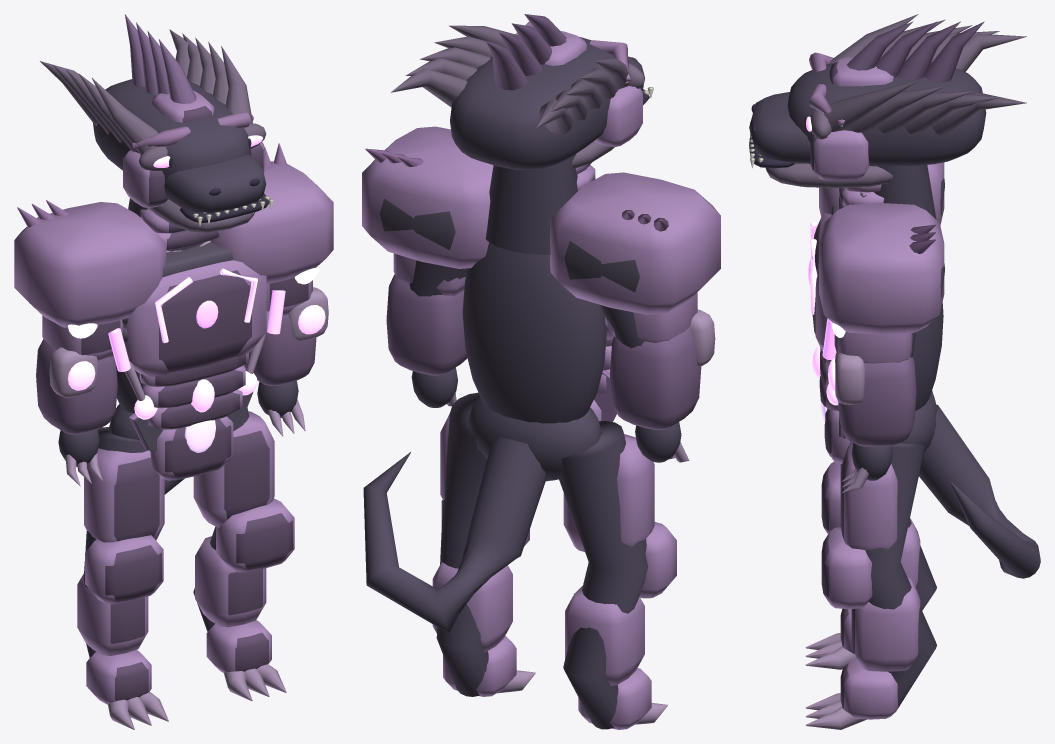
File: obsidnia.glb
The picture shows the model from 3 angles, left to right: view 1: azimuth 30°, elevation 25°; view 2: azimuth 150°, elevation 25°; view 3: azimuth 270°, elevation 25°; orthographic projection. The views are drawn at different scales.
Visible parts, largest first — view 1: Reptillian 2 reinforced pauldron -1 armour rim, Reptillian 2 reinforced pauldron 1 armour rim, Reptillian 2 closed breastplate armour plate, Long angular dragon cranium, Reptillian 2 closed breastplate armour rim, Tapered muzzle, Left forearm mechanical bracer, Reptillian 2 thigh cuirass -1 armour plate, Reptillian 2 thigh cuirass 1 armour plate, Reptillian 2 thigh cuirass -1 armour rim, Reptillian 2 shin greave 1 armour rim, Right forearm mechanical bracer (+54 smaller); view 2: Scaled narrow torso, Reptillian 2 reinforced pauldron -1 armour rim, Long curling reptilian tail, Left digitigrade leg, Reptillian 2 reinforced pauldron 1 armour rim, Long angular dragon cranium, Right digitigrade leg, Left forearm mechanical bracer, Long reptilian neck, Right forearm mechanical bracer, Scaled hip, Reptillian 2 shin greave -1 armour rim (+32 smaller); view 3: Reptillian 2 reinforced pauldron 1 armour rim, Long curling reptilian tail, Long angular dragon cranium, Right digitigrade leg, Right forearm mechanical bracer, Reptillian 2 shin greave 1 armour rim, Reptillian 2 thigh cuirass 1 armour rim, Tapered muzzle, Reptillian 2 knee shield 1 armour rim, Reptillian 2 ankle guard 1 armour rim, Reptillian 2 cheek guard 1 armour rim, Reptillian 2 biceps guard 1 armour rim (+27 smaller).
Part boxes in pixels (x1,y1,x2,y2): Reptillian 2 reinforced pauldron -1 armour rim: [14, 202, 166, 327]; Reptillian 2 reinforced pauldron 1 armour rim: [210, 161, 333, 283]; Reptillian 2 closed breastplate armour plate: [159, 270, 251, 371]; Long angular dragon cranium: [93, 79, 251, 180]; Reptillian 2 closed breastplate armour rim: [123, 260, 266, 377]; Tapered muzzle: [164, 154, 266, 212]; Left forearm mechanical bracer: [36, 339, 117, 434]; Reptillian 2 thigh cuirass -1 armour plate: [114, 457, 159, 541]; Reptillian 2 thigh cuirass 1 armour plate: [224, 430, 269, 519]; Reptillian 2 thigh cuirass -1 armour rim: [84, 448, 164, 542]; Reptillian 2 shin greave 1 armour rim: [195, 536, 266, 627]; Right forearm mechanical bracer: [244, 314, 316, 385]; Scaled narrow torso: [462, 242, 606, 423]; Reptillian 2 reinforced pauldron -1 armour rim: [550, 172, 720, 314]; Long curling reptilian tail: [363, 437, 546, 634]; Left digitigrade leg: [559, 421, 648, 729]; Reptillian 2 reinforced pauldron 1 armour rim: [362, 126, 493, 268]; Long angular dragon cranium: [450, 37, 618, 170]; Right digitigrade leg: [436, 392, 488, 696]; Left forearm mechanical bracer: [610, 327, 701, 429]; Long reptilian neck: [485, 154, 577, 254]; Right forearm mechanical bracer: [386, 274, 467, 375]; Scaled hip: [467, 395, 601, 481]; Reptillian 2 shin greave -1 armour rim: [565, 586, 644, 685]; Reptillian 2 reinforced pauldron 1 armour rim: [819, 203, 944, 334]; Long curling reptilian tail: [919, 404, 1040, 578]; Long angular dragon cranium: [787, 60, 986, 166]; Right digitigrade leg: [852, 442, 936, 712]; Right forearm mechanical bracer: [838, 356, 916, 446]; Reptillian 2 shin greave 1 armour rim: [855, 577, 920, 671]; Reptillian 2 thigh cuirass 1 armour rim: [844, 441, 897, 550]; Tapered muzzle: [749, 92, 810, 163]; Reptillian 2 knee shield 1 armour rim: [825, 527, 872, 609]; Reptillian 2 ankle guard 1 armour rim: [844, 658, 898, 719]; Reptillian 2 cheek guard 1 armour rim: [814, 130, 869, 180]; Reptillian 2 biceps guard 1 armour rim: [837, 331, 912, 363].
Size of the model in its own units: 2.2 by 4.67 by 1.84.
